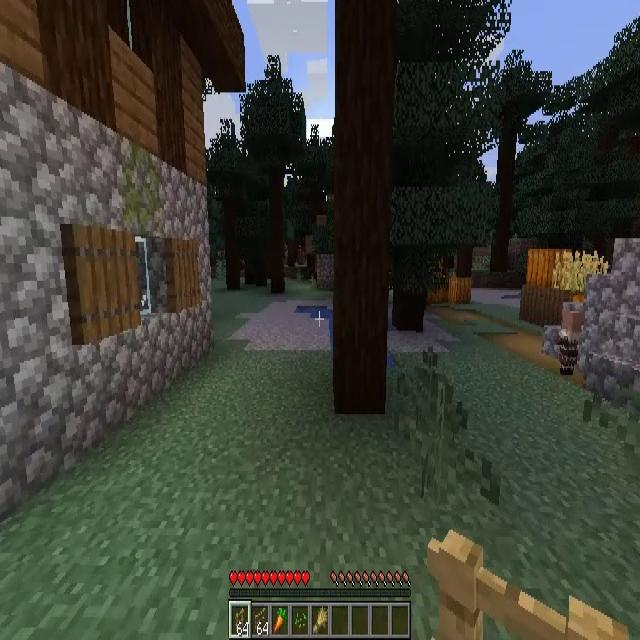people: (559, 310, 582, 376)
